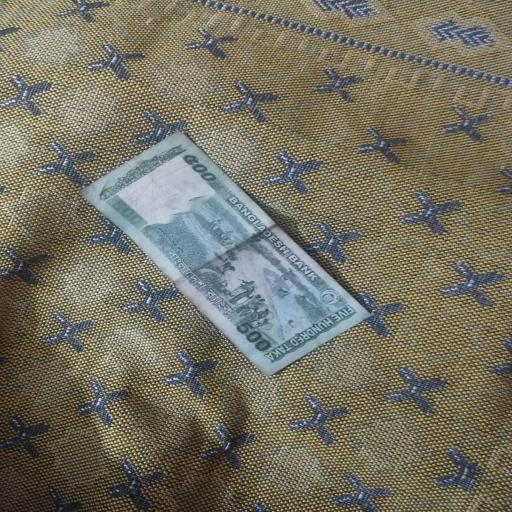500taka: (89, 132, 369, 380)
